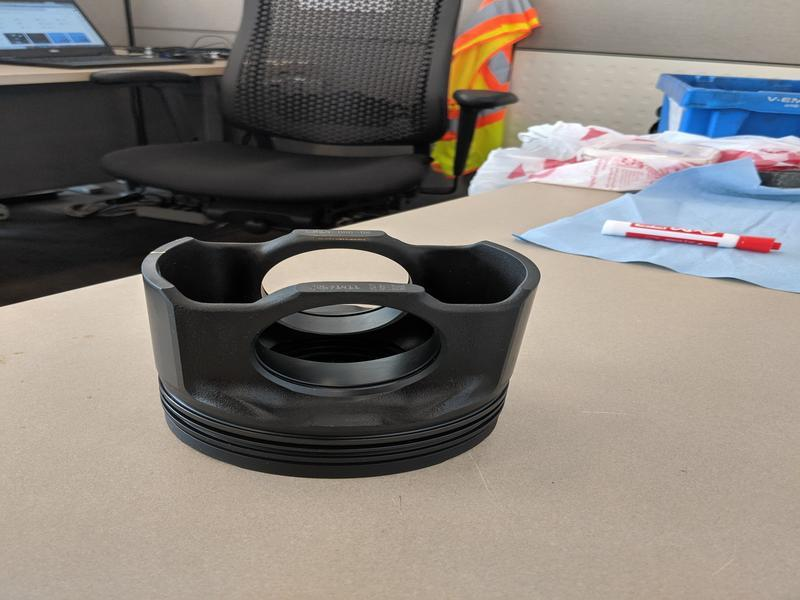piston: (119, 200, 552, 489)
